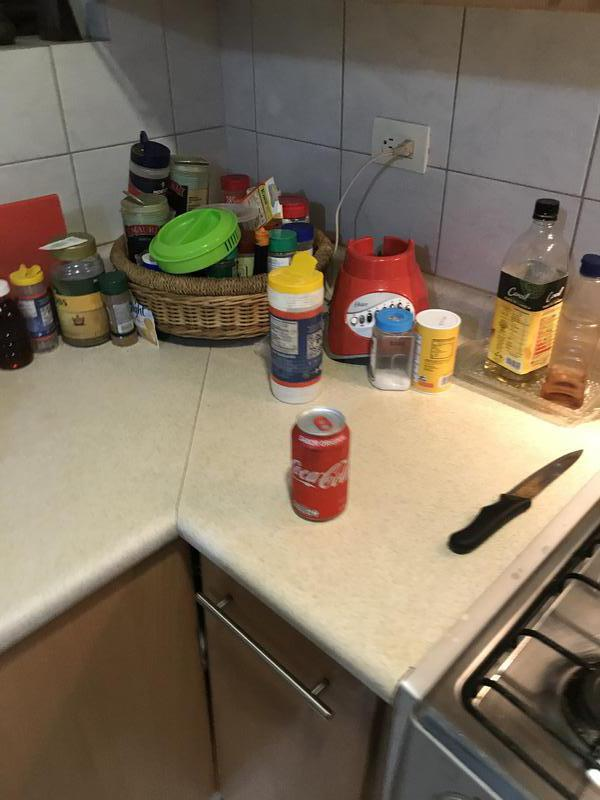coca_cola: (290, 408, 352, 522)
